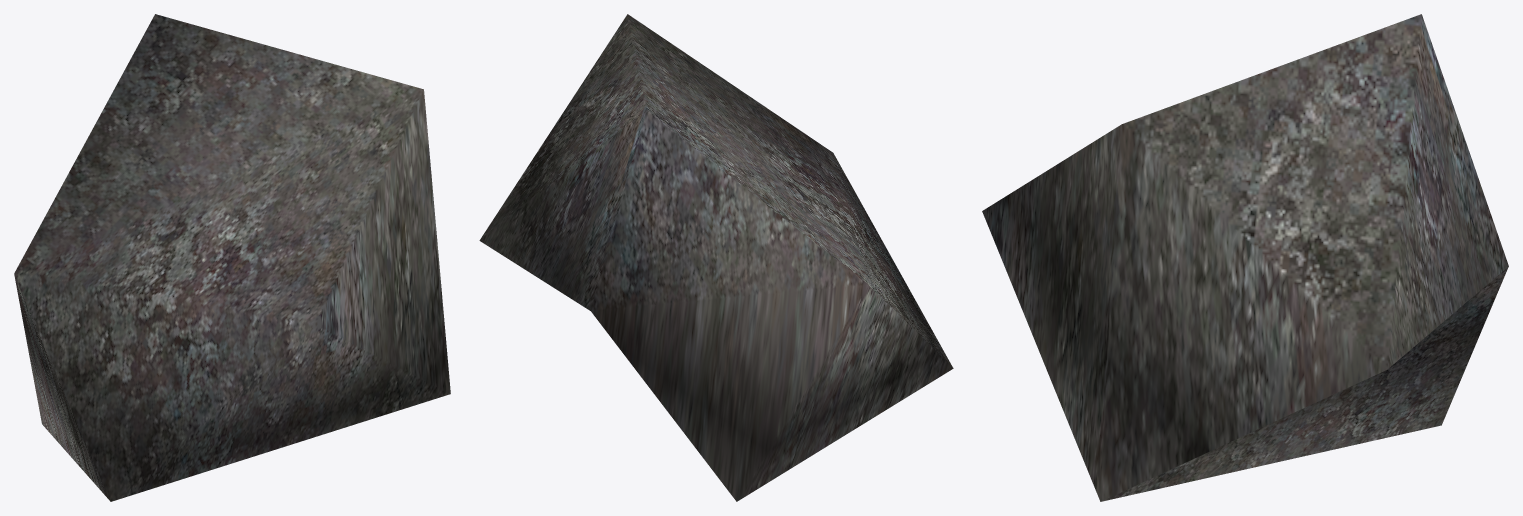
File: rock_volcanorockb_l3.fbx
3 renders of one model, left to right at view 1: azimuth 30°, elevation 25°; view 2: azimuth 150°, elevation 25°; view 3: azimuth 270°, elevation 25°, orthographic. The views are drawn at different scales.
Visible parts, largest first — view 1: mesh_node; view 2: mesh_node; view 3: mesh_node.
Part boxes in pixels (<box>): mesh_node: <box>14,14,450,501</box>; mesh_node: <box>479,14,953,501</box>; mesh_node: <box>982,14,1508,501</box>.
Bounding box in the file's own units: 5.54 × 5.35 × 5.4.
1 material, 1 textured.
